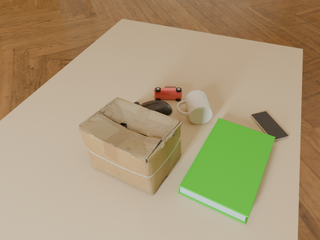book: (178, 118, 276, 224)
box: (79, 97, 182, 195)
cup: (177, 90, 212, 124)
mouse: (134, 100, 172, 116)
phone: (251, 111, 289, 141)
toy_car: (154, 86, 182, 101)
